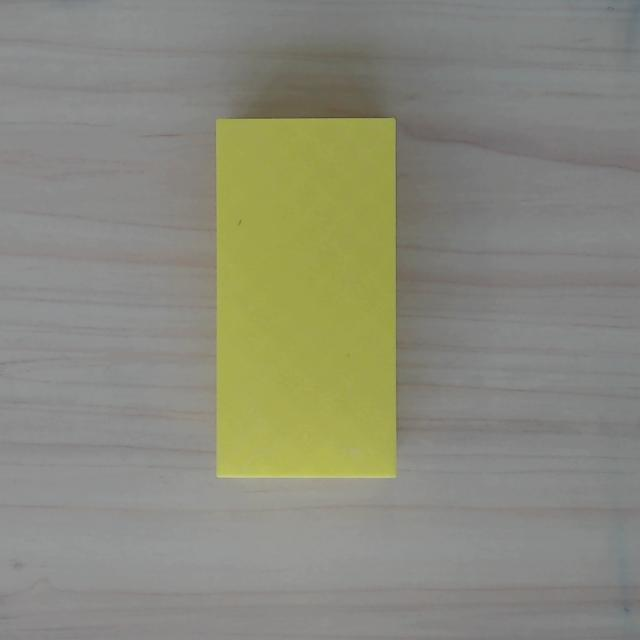Balok-Kuning-1005025: (216, 119, 396, 476)
